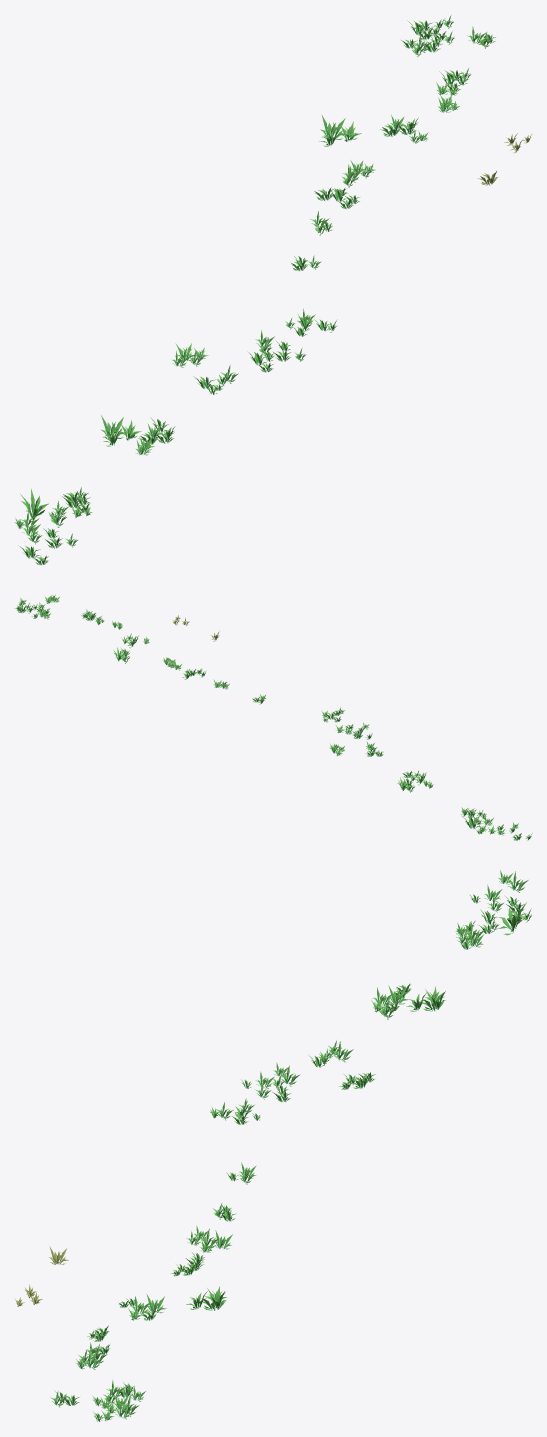
File: area_11_11.fbx
The picture shows the model from 3 angles, top to bottom: view 1: azimuth 90°, elevation 25°; view 2: azimuth 150°, elevation 25°; view 3: azimuth 270°, elevation 25°; orthographic projection. The views are drawn at different scales.
Visible parts, largest first — view 1: area_11_11; view 2: area_11_11; view 3: area_11_11.
Part boxes in pixels (x1,y1,x2,y2): area_11_11: (14, 15, 531, 564); area_11_11: (14, 594, 532, 840); area_11_11: (14, 870, 531, 1421).
Size of the model in its own units: 83.03 by 2.02 by 33.54.
